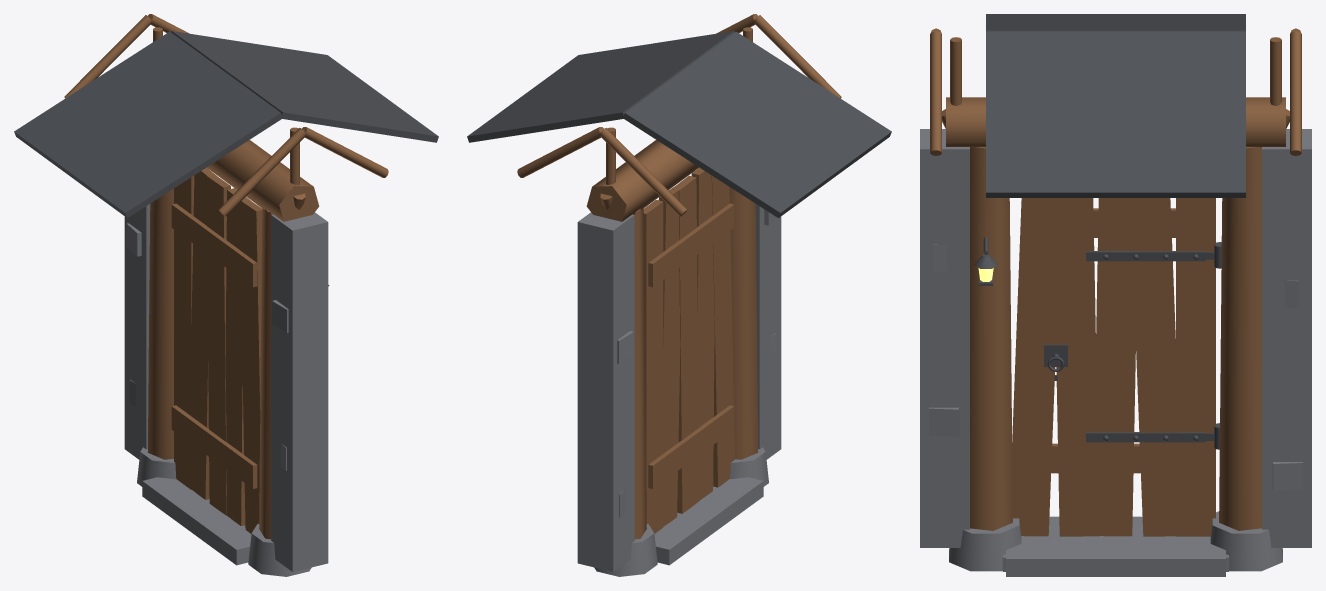
The model's file is door-kit.glb.
3 views of the same model, side by side, from view 1: azimuth 30°, elevation 25°; view 2: azimuth 150°, elevation 25°; view 3: azimuth 270°, elevation 25° (orthographic). The views are drawn at different scales.
Parts seen in each view (by area): view 1: Mesh_RoofB, Mesh_RightWallStone, Mesh_RoofA, Mesh_LeftPost, Mesh_LeftWallStone, Mesh_Plank4, Mesh_Plank2, Mesh_Plank0, Mesh_Plank1, Mesh_Plank3, Mesh_ThresholdStep, Mesh_Lintel (+8 smaller); view 2: Mesh_RoofB, Mesh_LeftWallStone, Mesh_RoofA, Mesh_RightPost, Mesh_RightWallStone, Mesh_Plank0, Mesh_Plank2, Mesh_Plank4, Mesh_Plank3, Mesh_Plank1, Mesh_ThresholdStep, Mesh_Lintel (+8 smaller); view 3: Mesh_RoofA, Mesh_RightWallStone, Mesh_LeftWallStone, Mesh_LeftPost, Mesh_RightPost, Mesh_Plank3, Mesh_Plank1, Mesh_Plank4, Mesh_Plank0, Mesh_Plank2, Mesh_ThresholdStep, Mesh_RoofB (+11 smaller).
Boxes of the visible parts, left/top/right/bottom form: Mesh_RoofB: left=14, top=31, right=281, bottom=217; Mesh_RightWallStone: left=271, top=212, right=328, bottom=571; Mesh_RoofA: left=171, top=31, right=438, bottom=142; Mesh_LeftPost: left=147, top=188, right=173, bottom=459; Mesh_LeftWallStone: left=124, top=204, right=150, bottom=459; Mesh_Plank4: left=239, top=201, right=262, bottom=533; Mesh_Plank2: left=206, top=174, right=230, bottom=515; Mesh_Plank0: left=174, top=175, right=194, bottom=489; Mesh_Plank1: left=191, top=167, right=216, bottom=499; Mesh_Plank3: left=225, top=188, right=251, bottom=526; Mesh_ThresholdStep: left=142, top=477, right=251, bottom=565; Mesh_Lintel: left=207, top=140, right=319, bottom=221; Mesh_RoofB: left=623, top=31, right=891, bottom=217; Mesh_LeftWallStone: left=577, top=212, right=634, bottom=571; Mesh_RoofA: left=467, top=31, right=734, bottom=142; Mesh_RightPost: left=729, top=187, right=758, bottom=459; Mesh_RightWallStone: left=755, top=204, right=781, bottom=459; Mesh_Plank0: left=643, top=200, right=663, bottom=533; Mesh_Plank2: left=672, top=175, right=699, bottom=513; Mesh_Plank4: left=711, top=175, right=734, bottom=487; Mesh_Plank3: left=691, top=167, right=714, bottom=500; Mesh_Plank1: left=658, top=187, right=680, bottom=526; Mesh_ThresholdStep: left=654, top=477, right=763, bottom=565; Mesh_Lintel: left=586, top=140, right=698, bottom=221; Mesh_RoofA: left=986, top=31, right=1245, bottom=197; Mesh_RightWallStone: left=920, top=129, right=969, bottom=547; Mesh_LeftWallStone: left=1262, top=129, right=1311, bottom=547; Mesh_LeftPost: left=1219, top=147, right=1261, bottom=530; Mesh_RightPost: left=970, top=147, right=1012, bottom=530; Mesh_Plank3: left=1053, top=198, right=1099, bottom=536; Mesh_Plank1: left=1130, top=198, right=1183, bottom=536; Mesh_Plank4: left=1012, top=198, right=1055, bottom=536; Mesh_Plank0: left=1176, top=198, right=1215, bottom=536; Mesh_Plank2: left=1096, top=198, right=1135, bottom=536; Mesh_ThresholdStep: left=1006, top=516, right=1225, bottom=576; Mesh_RoofB: left=986, top=14, right=1245, bottom=31.
Bounding box in the file's own units: 2.11 × 2.9 × 1.96.
3 materials, 3 textured.
